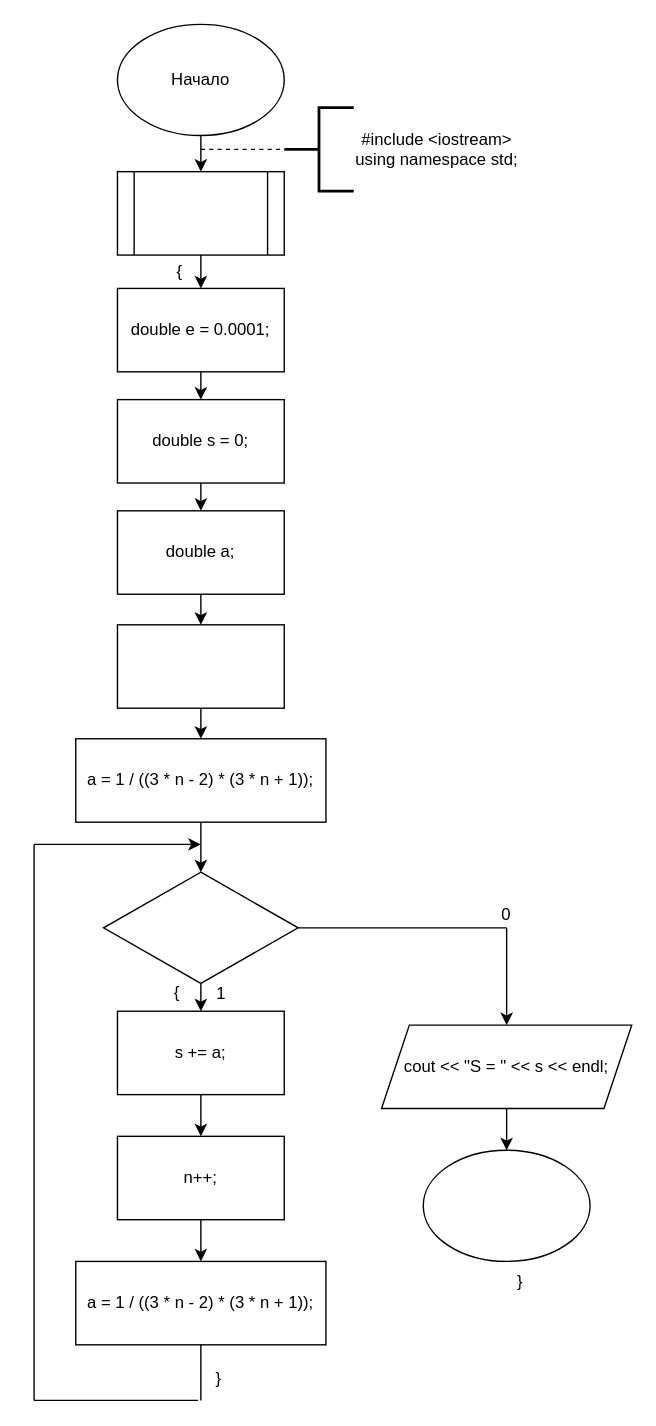
Some shapes in this 656 by 1426 pixel diagram are drawn without their labels. The centre of each missing label's shape, as x and y in pixels:
int main(): point (200, 212)
int n = 1;: point (200, 665)
return 0;: point (506, 1205)
while (a >= e): point (200, 927)
